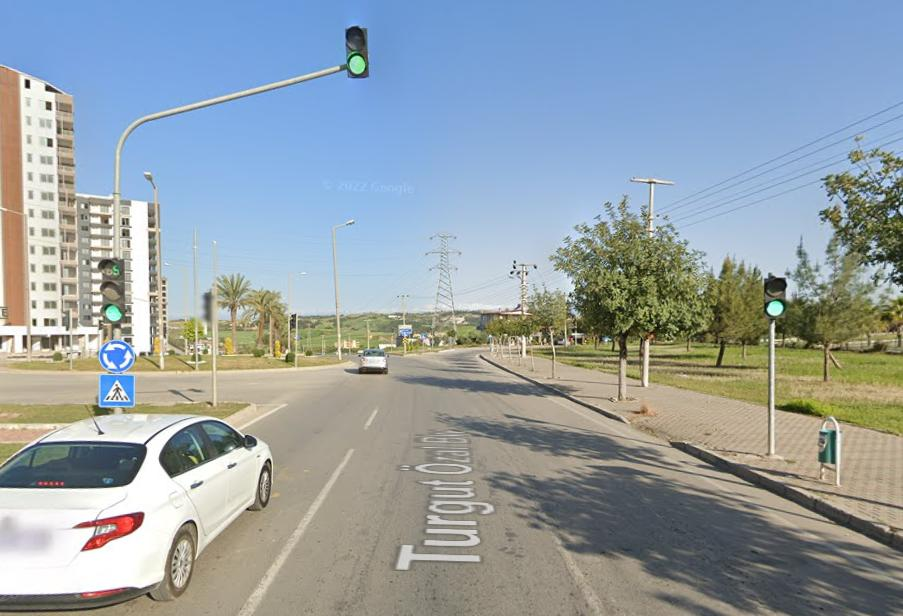crossroads: (102, 342, 134, 368)
greenlight: (98, 260, 131, 329), (342, 24, 370, 78), (767, 271, 785, 317)
